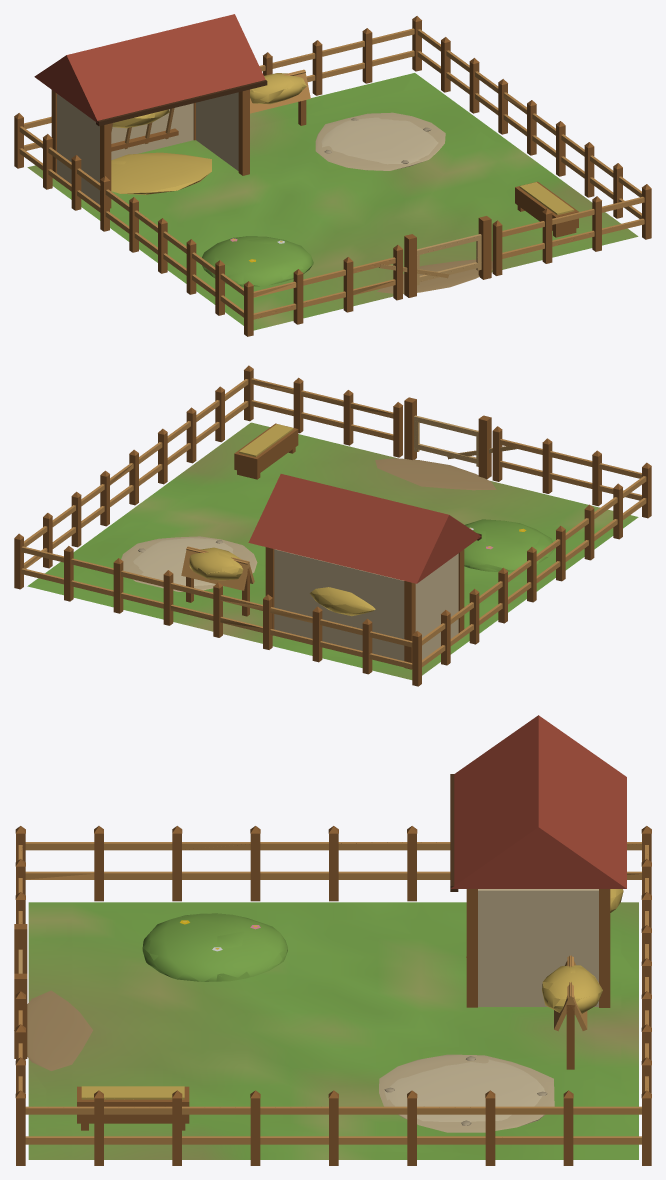
Rendered from paddock.glb.
3 views of the same model, one above another, from view 1: azimuth 30°, elevation 25°; view 2: azimuth 150°, elevation 25°; view 3: azimuth 270°, elevation 25° (orthographic). The views are drawn at different scales.
Visible parts, largest first — view 1: home-paddock, home-paddock-far; view 2: home-paddock, home-paddock-far; view 3: home-paddock, home-paddock-far.
Part boxes in pixels (box(x1,y1,x2,y2)): home-paddock: box(14, 14, 651, 324); home-paddock-far: box(14, 20, 651, 336); home-paddock: box(14, 365, 651, 673); home-paddock-far: box(14, 369, 651, 686); home-paddock: box(14, 715, 651, 1165); home-paddock-far: box(14, 774, 651, 1165).
Size of the model in its own units: 7.93 by 2.63 by 7.95.
